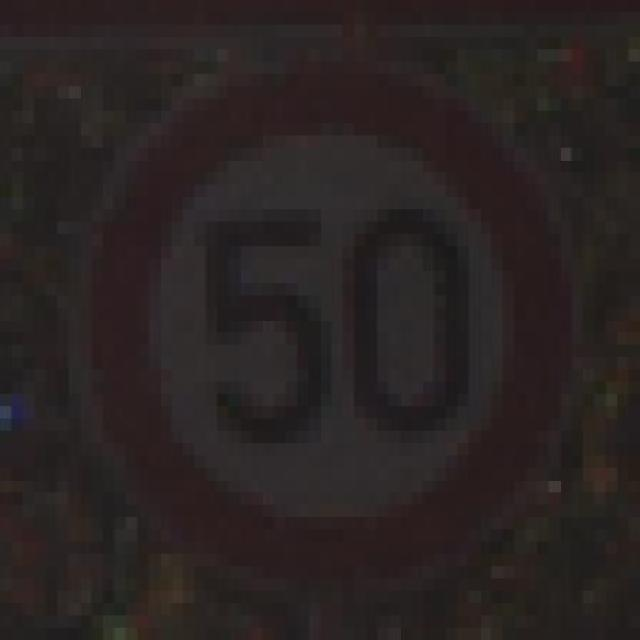50 mph speed limit: (68, 41, 594, 582)
